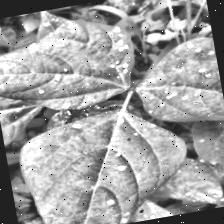Bean Rust: (19, 102, 194, 224), (0, 28, 129, 121), (28, 0, 139, 99), (130, 37, 224, 134), (191, 120, 224, 203), (0, 87, 45, 147), (96, 193, 177, 224)
